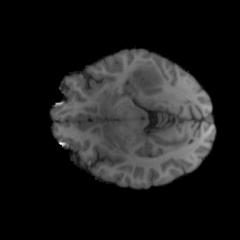glioma: (127, 65, 163, 91)
